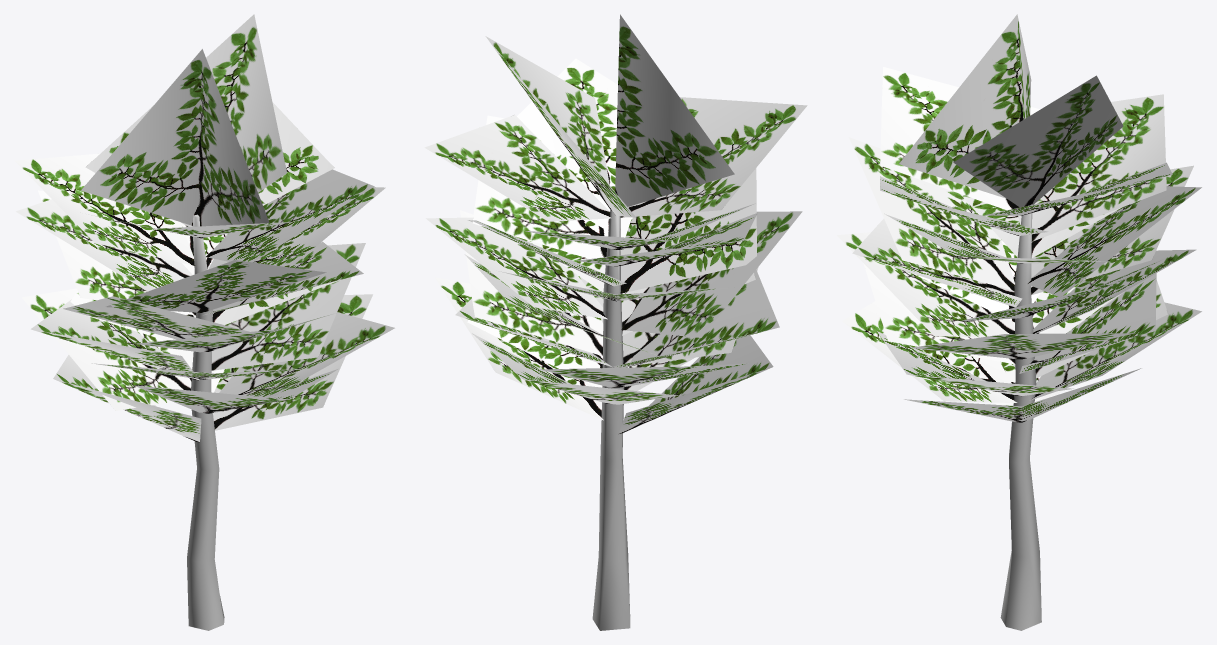
File: tree2.obj
3 renders of one model, left to right at view 1: azimuth 30°, elevation 25°; view 2: azimuth 150°, elevation 25°; view 3: azimuth 270°, elevation 25°, orthographic. The views are drawn at different scales.
Visible parts, largest first — view 1: unnamed_object1_tree5, unnamed_object1_stamm; view 2: unnamed_object1_tree5, unnamed_object1_stamm; view 3: unnamed_object1_tree5, unnamed_object1_stamm.
Part boxes in pixels (box(x1,y1,x2,y2)): unnamed_object1_tree5: box(14, 14, 394, 442); unnamed_object1_stamm: box(187, 214, 224, 630); unnamed_object1_tree5: box(424, 14, 807, 433); unnamed_object1_stamm: box(592, 209, 630, 630); unnamed_object1_tree5: box(837, 14, 1201, 422); unnamed_object1_stamm: box(1000, 204, 1041, 630).
Bounding box in the file's own units: 46.38 × 76.27 × 41.84.
Materials: 1 (1 with a texture image).
